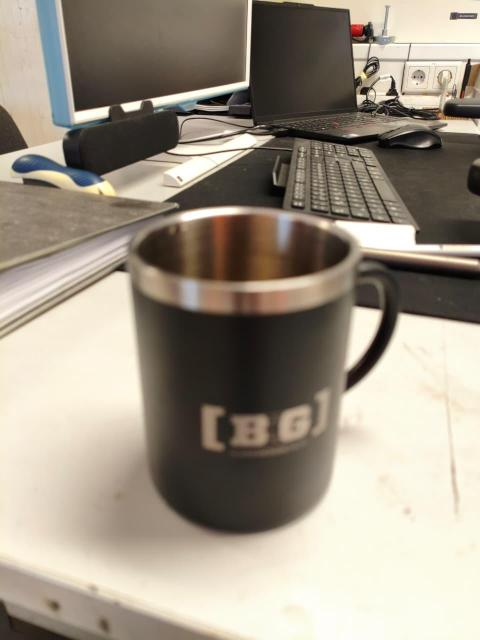Metal: (123, 205, 415, 523)
